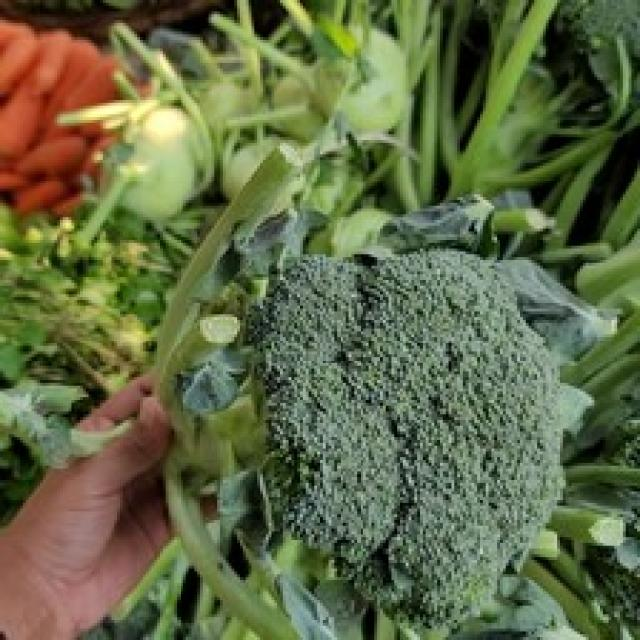Broccoli: (251, 250, 561, 626), (251, 250, 560, 627)
